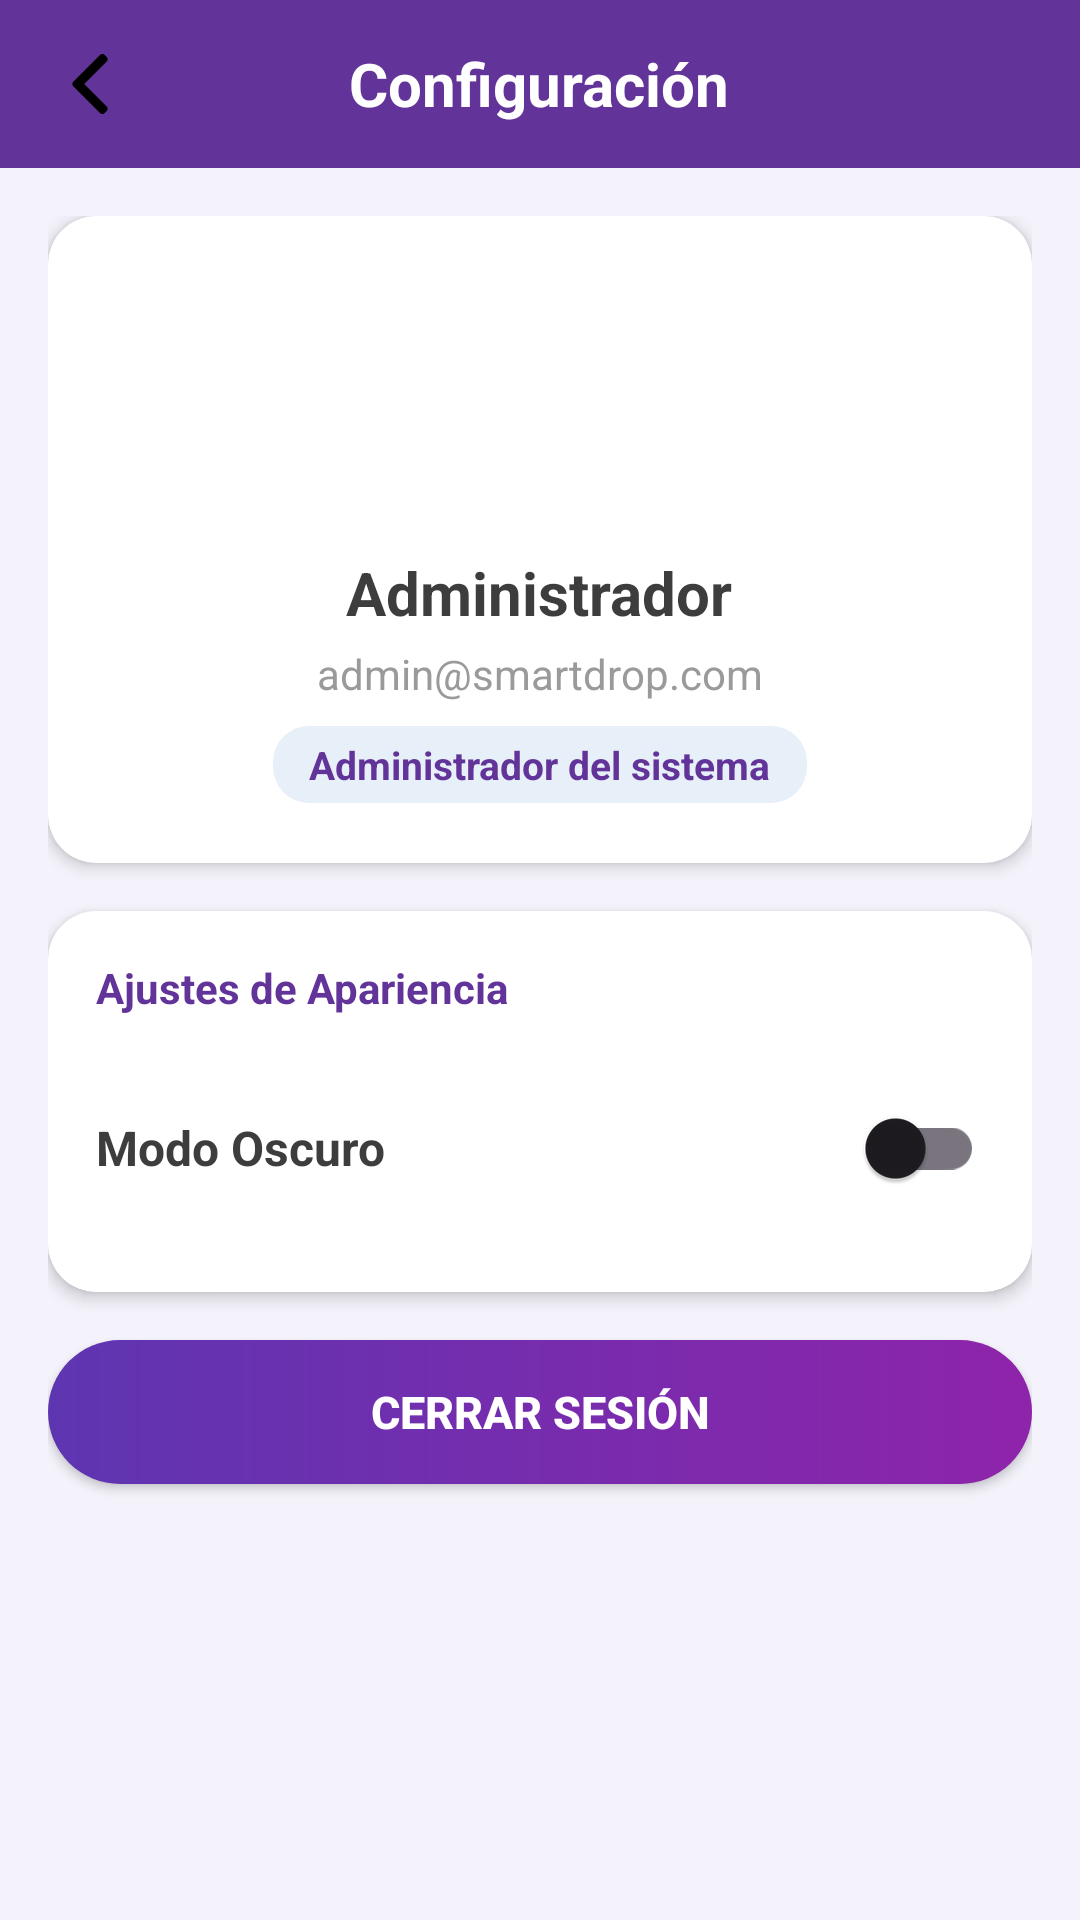

Icon click points for this 1080 × 1920 phone screenshot, format [x,y]:
Regresar: [90,84]
